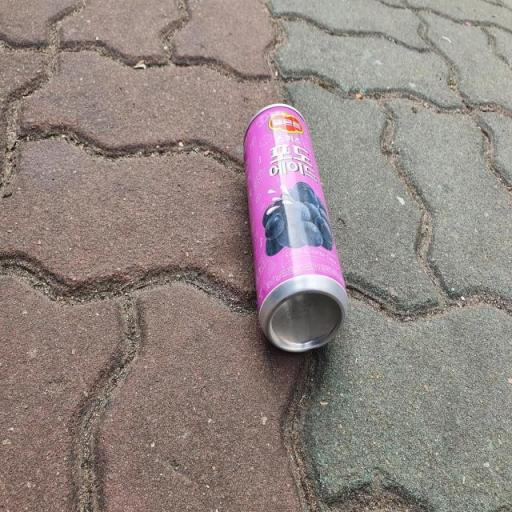metal: (214, 72, 360, 386)
